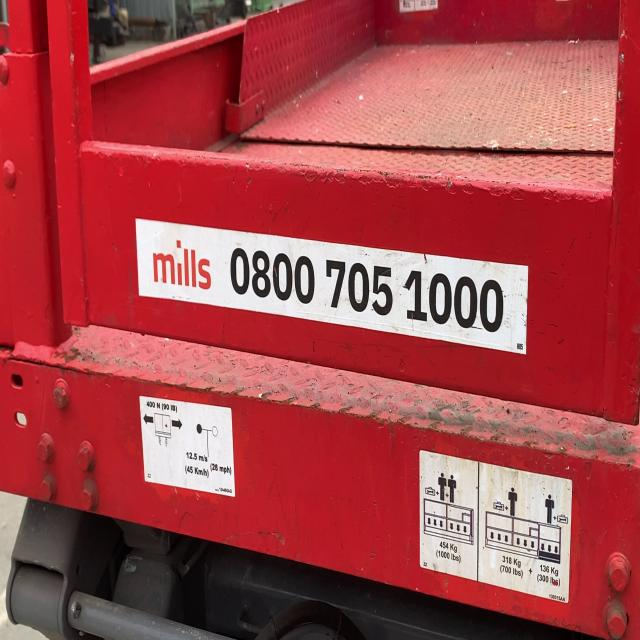Adesivo Longo: (135, 216, 532, 357)
